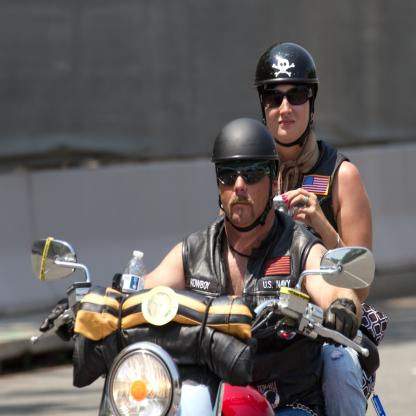Helmet: (212, 120, 286, 229), (250, 40, 319, 152)
